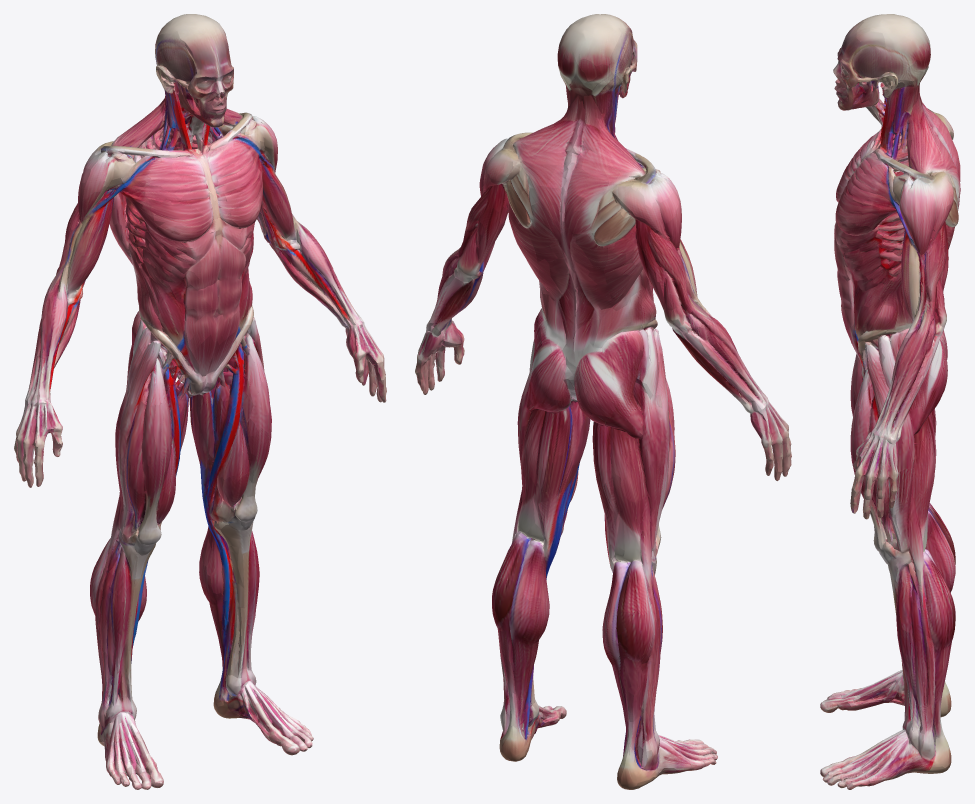
File: glass-figure.glb
3 views of the same model, side by side, from view 1: azimuth 30°, elevation 25°; view 2: azimuth 150°, elevation 25°; view 3: azimuth 270°, elevation 25° (orthographic).
Size of the model in its own units: 0.9855 by 1.9 by 0.332.
1 material, 1 textured.
